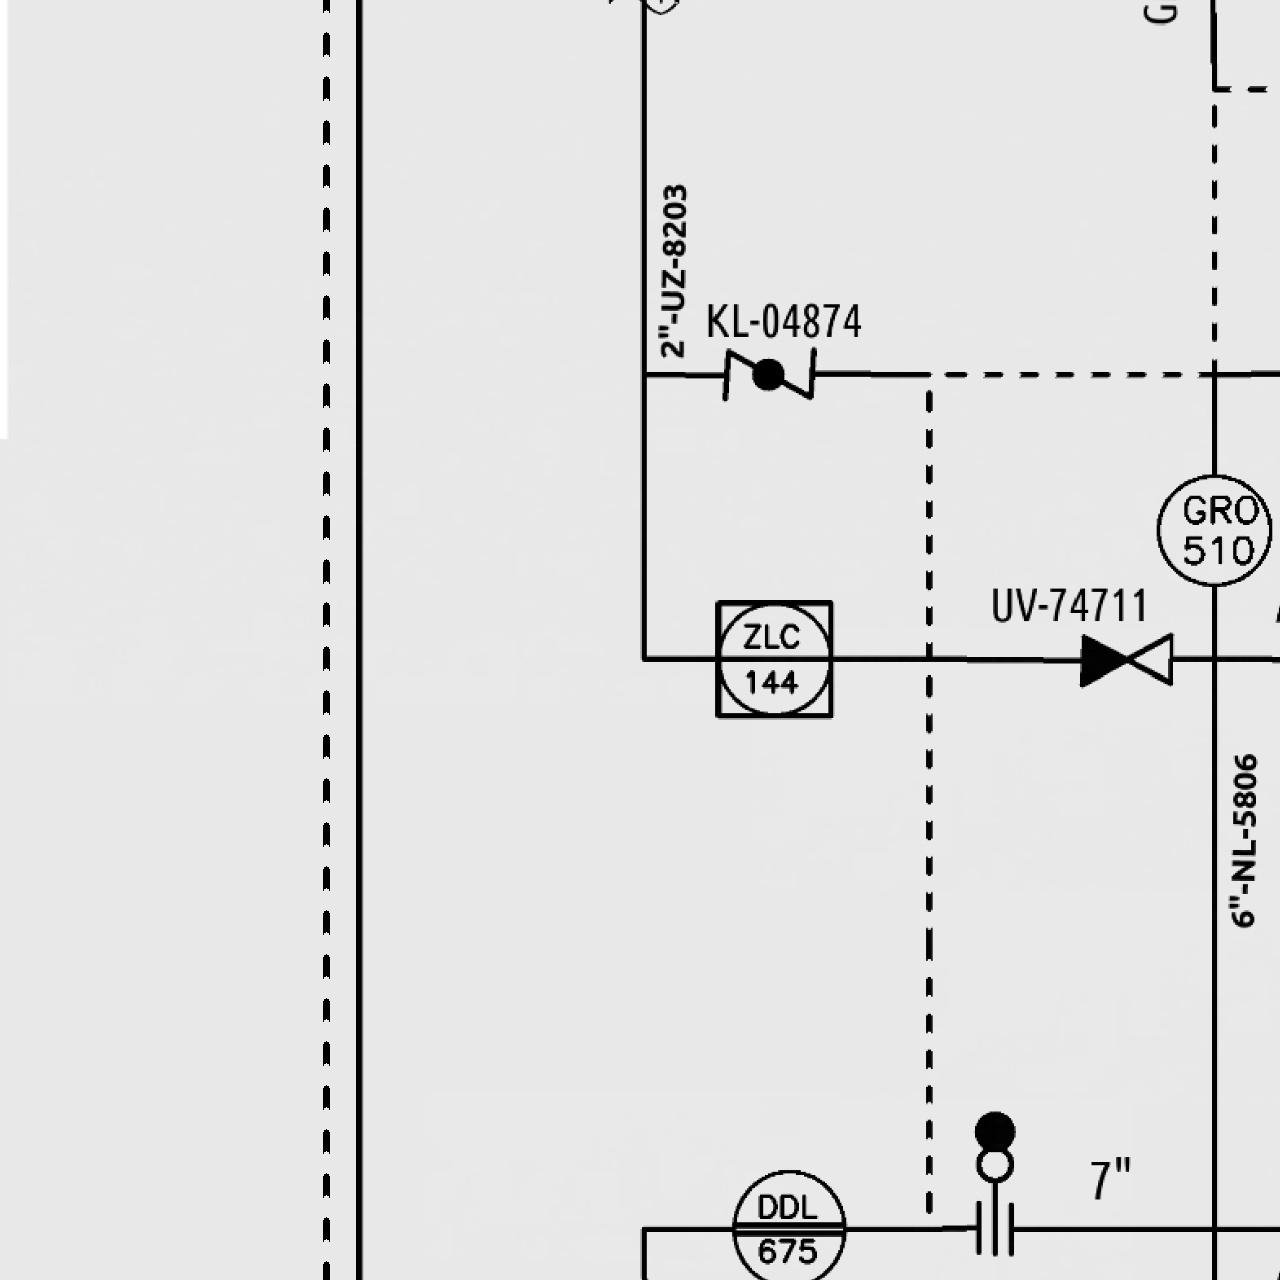Half closed valve: (1074, 628, 1177, 690)
